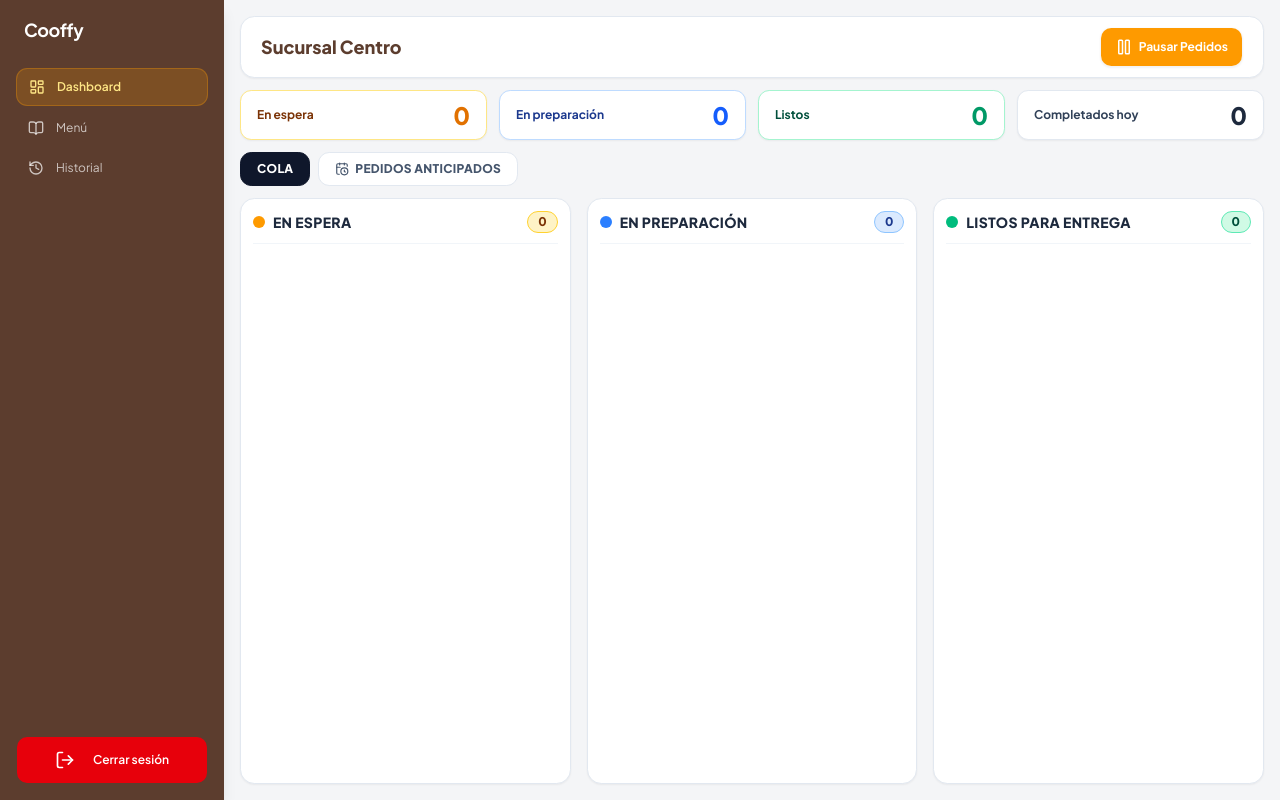
Test: KitchenView — RF-14 pedidos anticipados › muestra el estado vacío en la pestaña de anticipados cuando no hay pre-orders
Step 1. Click the tab with test id "kitchen-tab-upcoming" → (418, 169), box x1=318 y1=152 x2=518 y2=186
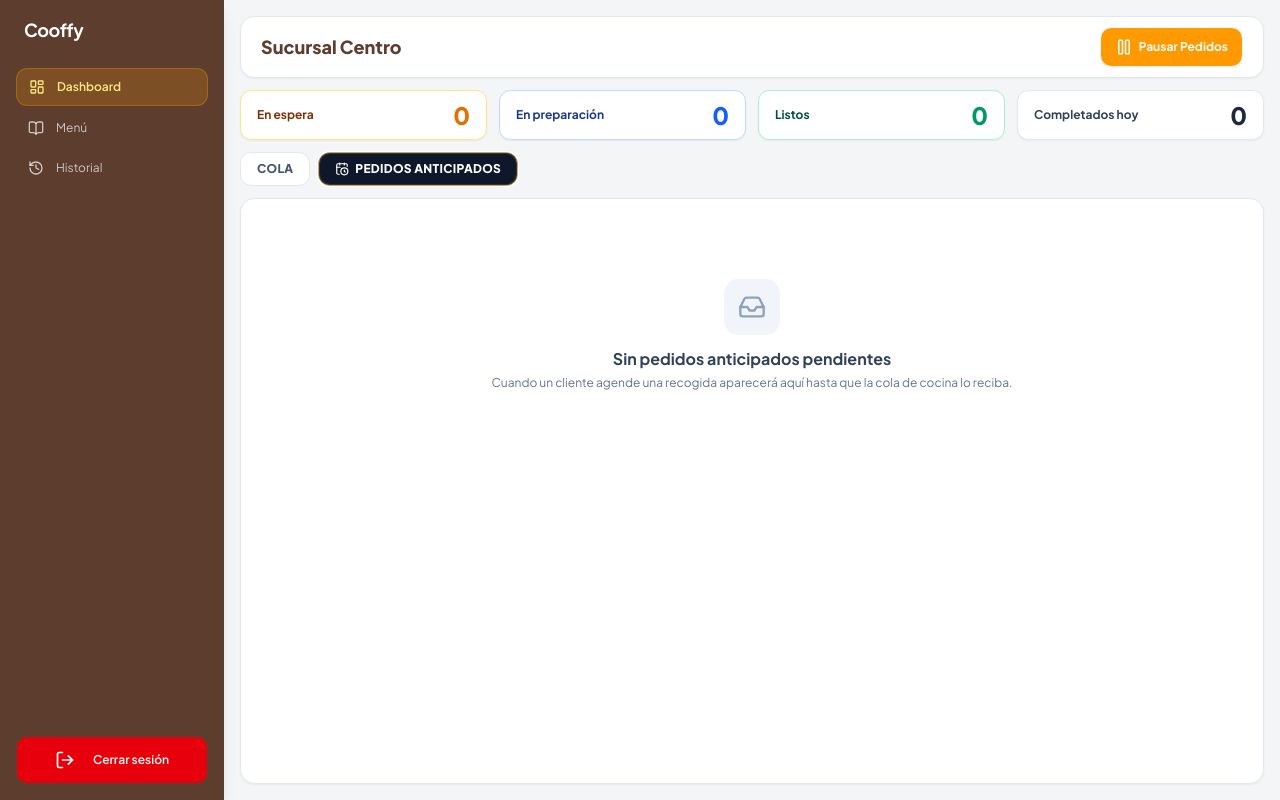
Check: the element with test id "kitchen-upcoming-empty" shows "Sin pedidos anticipados pendientes", box x1=613 y1=348 x2=891 y2=369
